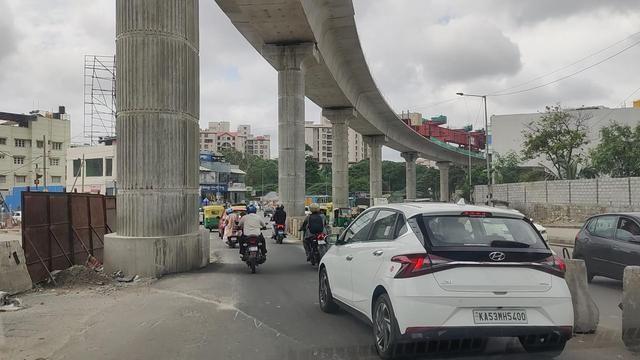LMV: (321, 205, 578, 354), (240, 208, 264, 270), (305, 199, 329, 261)
RoadDamages: (156, 281, 289, 338), (41, 290, 135, 355)
